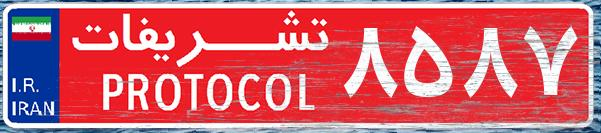5: (400, 20, 460, 115)
7: (520, 20, 580, 115)
8: (340, 20, 400, 115), (460, 20, 520, 115)
تشریفات: (60, 8, 340, 125)
